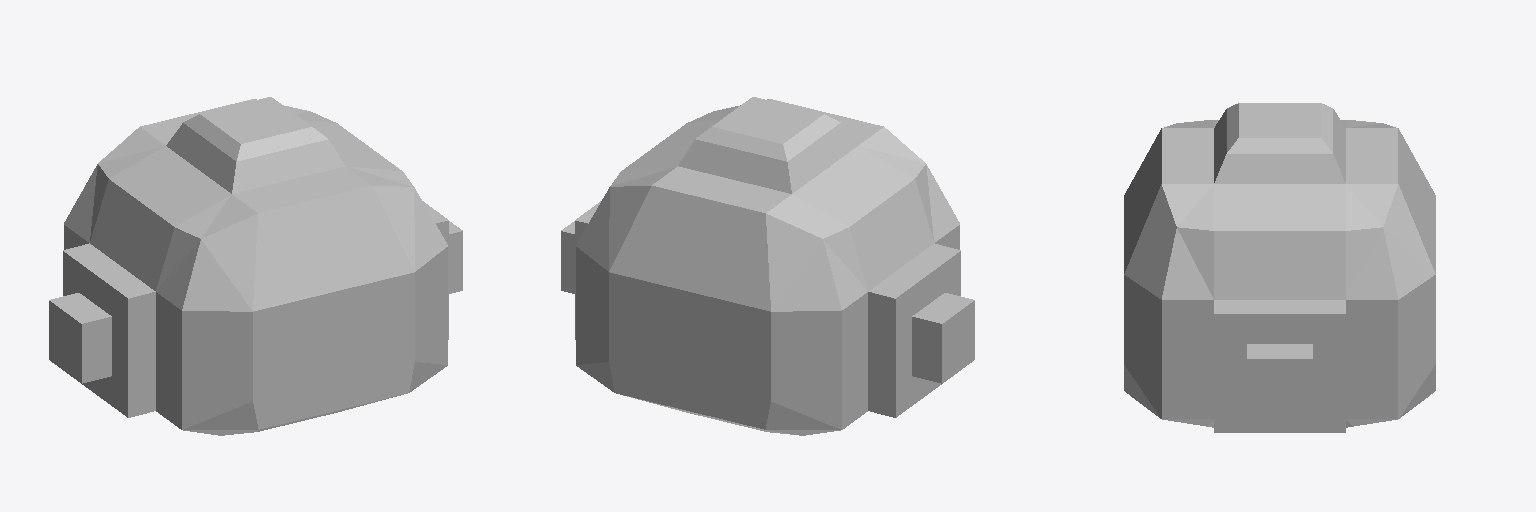
The model's file is enemy_Body.obj.
The picture shows the model from 3 angles: view 1: azimuth 30°, elevation 25°; view 2: azimuth 150°, elevation 25°; view 3: azimuth 270°, elevation 25°; orthographic projection.
Parts seen in each view (by area): view 1: Body; view 2: Body; view 3: Body.
Boxes of the visible parts, <box> form: Body: <box>49,97,462,435</box>; Body: <box>561,97,974,435</box>; Body: <box>1124,103,1435,432</box>.
Size of the model in its own units: 1.35 by 0.9152 by 0.9531.